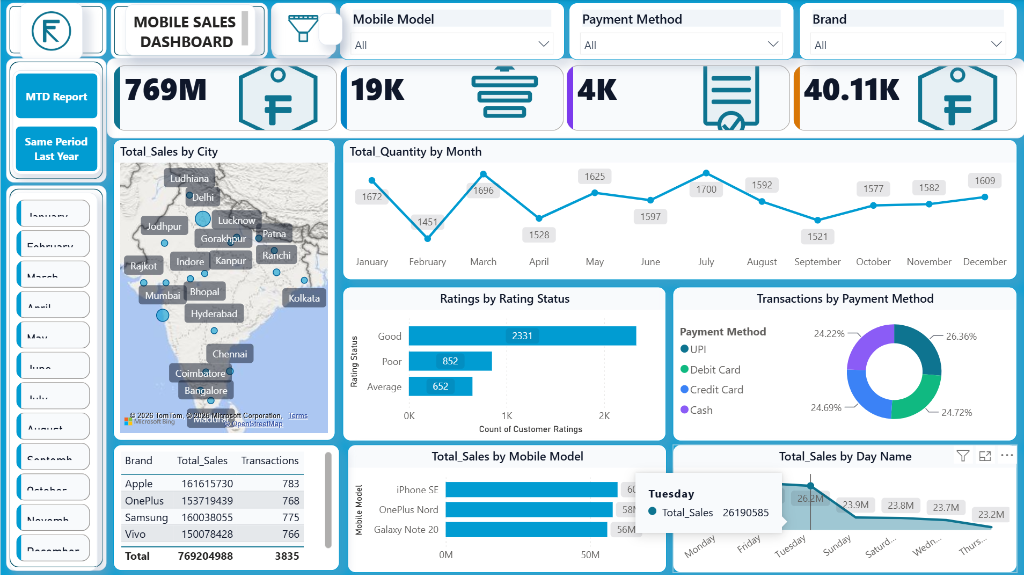

The page's visual inventory and layout, read from the dashboard file:
{"tool":"powerbi","page":{"name":"Dashboard","canvas":[1280,720],"ordinal":0},"visuals":[{"type":"shape","box":[7.5,3.8,125,67.5],"z":0},{"type":"image","box":[23.8,3.8,78.8,71.2],"z":1000},{"type":"shape","box":[7.5,73.8,125,155],"z":2000},{"type":"shape","box":[7.5,232.5,125,481.2],"z":3000},{"type":"advancedSlicerVisual","fields":{"Values":["Custom_Calendar.Date.Variation.Date Hierarchy.Month"]},"box":[11.2,241.2,110,472.5],"z":4000},{"type":"cardVisual","fields":{"Data":["Sales_Data.Total_Sales","Sales_Data.Total_Quantity","Sales_Data.Transactions","Sales_Data.Average_Price"]},"box":[132.5,73.8,1147.5,100],"z":5000},{"type":"slicer","fields":{"Values":["Sales_Data.Mobile Model"]},"box":[423.8,3.8,281.2,71.2],"z":6000},{"type":"slicer","fields":{"Values":["Sales_Data.Payment Method"]},"box":[710,3.8,281.2,71.2],"z":7000},{"type":"slicer","fields":{"Values":["Sales_Data.Brand"]},"box":[997.5,3.8,272.5,71.2],"z":8000},{"type":"shape","box":[338.8,3.8,76.2,70],"z":9000},{"type":"image","box":[337.5,3.8,81.2,66.2],"z":10000},{"type":"shape","box":[397.5,17.5,30,40],"z":11000},{"type":"shape","box":[137.5,3.8,196.2,70],"z":12000},{"type":"textbox","box":[156.2,6.2,162.5,63.8],"z":13000},{"type":"map","fields":{"Category":["Sales_Data.City"],"Size":["Sales_Data.Total_Sales"]},"box":[141.2,175,277.5,376.2],"z":14000},{"type":"lineChart","fields":{"Y":["Sales_Data.Total_Quantity"],"Category":["Custom_Calendar.Date.Variation.Date Hierarchy.Month"]},"box":[427.5,175,842.5,175],"z":15000},{"type":"clusteredBarChart","title":"Ratings by Rating Status","fields":{"Y":["CountNonNull(Sales_Data.Customer Ratings)"],"Category":["Sales_Data.Rating Status"]},"box":[427.5,358.8,403.8,192.5],"z":16000},{"type":"donutChart","fields":{"Y":["Sales_Data.Transactions"],"Category":["Sales_Data.Payment Method"]},"box":[840,358.8,430,192.5],"z":16001},{"type":"clusteredBarChart","fields":{"Y":["Sales_Data.Total_Sales"],"Category":["Sales_Data.Mobile Model"]},"box":[433.8,556.2,398.8,160],"z":16002},{"type":"areaChart","fields":{"Y":["Sales_Data.Total_Sales"],"Category":["Custom_Calendar.Day Name"]},"box":[840,556.2,430,160],"z":16003},{"type":"tableEx","fields":{"Values":["Sales_Data.Brand","Sales_Data.Total_Sales","Sales_Data.Transactions"]},"box":[141.2,556.2,282.5,157.5],"z":16004},{"type":"pageNavigator","box":[15,88.8,110,130],"z":16005}]}

Visuals, with their boxes in screenshot pixels (x1, y1, x2, y2), scaled from the page's 1280x720 canvas onto the 1024x575 screenshot:
shape: 6 3 106 57
image: 19 3 82 60
shape: 6 59 106 183
shape: 6 186 106 570
advancedSlicerVisual - Custom_Calendar.Date.Variation.Date Hierarchy.Month: 9 193 97 570
cardVisual - Sales_Data.Total_Sales x Sales_Data.Total_Quantity: 106 59 1023 139
slicer - Sales_Data.Mobile Model: 339 3 564 60
slicer - Sales_Data.Payment Method: 568 3 793 60
slicer - Sales_Data.Brand: 798 3 1016 60
shape: 271 3 332 59
image: 270 3 335 56
shape: 318 14 342 46
shape: 110 3 267 59
textbox: 125 5 255 56
map - Sales_Data.City x Sales_Data.Total_Sales: 113 140 335 440
lineChart - Sales_Data.Total_Quantity x Custom_Calendar.Date.Variation.Date Hierarchy.Month: 342 140 1016 280
"Ratings by Rating Status" clusteredBarChart: 342 287 665 440
donutChart - Sales_Data.Transactions x Sales_Data.Payment Method: 672 287 1016 440
clusteredBarChart - Sales_Data.Total_Sales x Sales_Data.Mobile Model: 347 444 666 572
areaChart - Sales_Data.Total_Sales x Custom_Calendar.Day Name: 672 444 1016 572
tableEx - Sales_Data.Brand x Sales_Data.Total_Sales: 113 444 339 570
pageNavigator: 12 71 100 175
